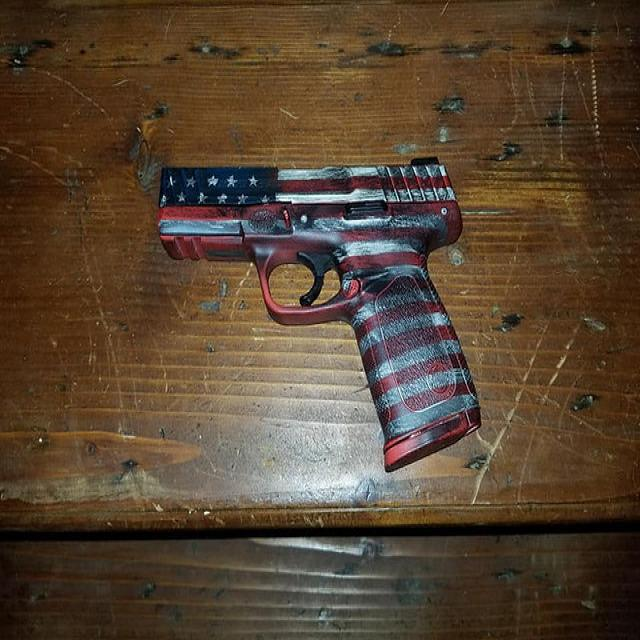HandGun: (149, 152, 499, 487)
